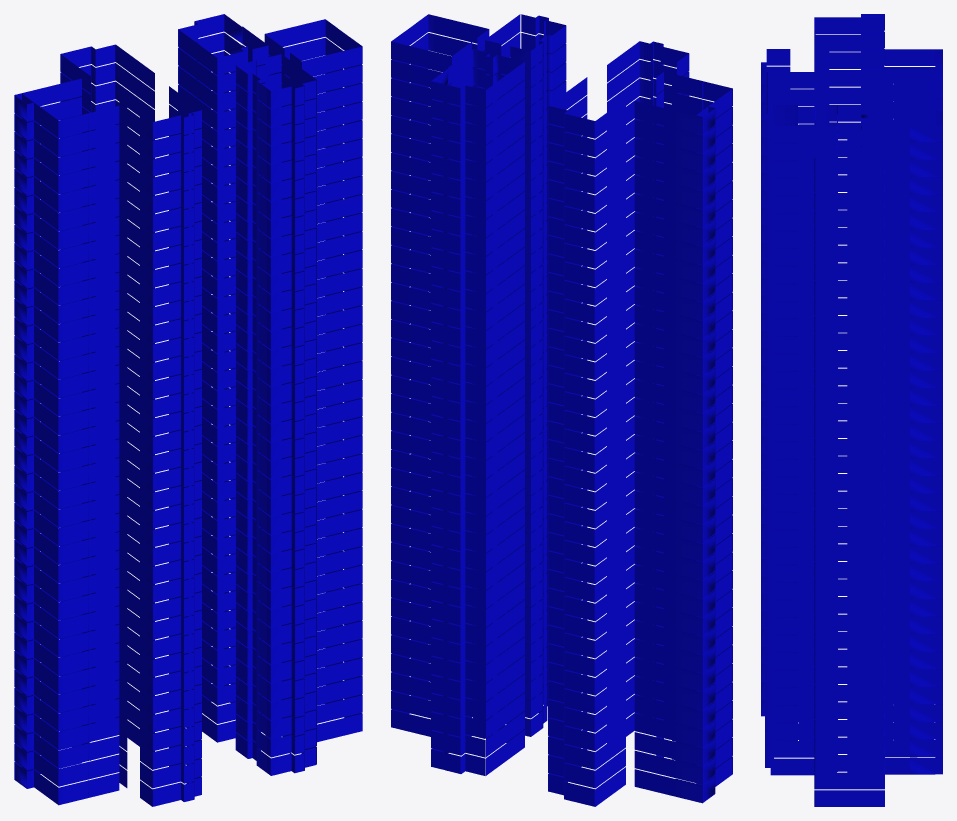
File: Tower-Planes.glb
3 renders of one model, left to right at view 1: azimuth 30°, elevation 25°; view 2: azimuth 150°, elevation 25°; view 3: azimuth 270°, elevation 25°, orthographic. The views are drawn at different scales.
Parts seen in each view (by area): view 1: no part large enough to name; view 2: no part large enough to name; view 3: Tower_A_36_3606_Architecture_Walls_Box3816, Tower_A_00_004_Architecture_Walls_Box292, Tower_A_02_204_Architecture_Walls_Box492, Tower_A_07_704_Architecture_Walls_Box992, Tower_A_09_904_Architecture_Walls_Box1192, Tower_A_14_1404_Architecture_Walls_Box1692, Tower_A_16_1604_Architecture_Walls_Box1892, Tower_A_18_1804_Architecture_Walls_Box2092, Tower_A_21_2104_Architecture_Walls_Box2392, Tower_A_23_2304_Architecture_Walls_Box2592, Tower_A_25_2504_Architecture_Walls_Box2792, Tower_A_28_2804_Architecture_Walls_Box3092 (+205 smaller).
Part boxes in pixels (left/top/right/bottom): Tower_A_36_3606_Architecture_Walls_Box3816: left=847, top=129, right=884, bottom=146; Tower_A_00_004_Architecture_Walls_Box292: left=910, top=757, right=942, bottom=774; Tower_A_02_204_Architecture_Walls_Box492: left=910, top=722, right=942, bottom=739; Tower_A_07_704_Architecture_Walls_Box992: left=910, top=634, right=942, bottom=651; Tower_A_09_904_Architecture_Walls_Box1192: left=910, top=599, right=942, bottom=616; Tower_A_14_1404_Architecture_Walls_Box1692: left=910, top=511, right=942, bottom=528; Tower_A_16_1604_Architecture_Walls_Box1892: left=910, top=476, right=942, bottom=493; Tower_A_18_1804_Architecture_Walls_Box2092: left=910, top=441, right=942, bottom=458; Tower_A_21_2104_Architecture_Walls_Box2392: left=910, top=388, right=942, bottom=405; Tower_A_23_2304_Architecture_Walls_Box2592: left=910, top=353, right=942, bottom=370; Tower_A_25_2504_Architecture_Walls_Box2792: left=910, top=318, right=942, bottom=335; Tower_A_28_2804_Architecture_Walls_Box3092: left=910, top=265, right=942, bottom=282.
Bounding box in the file's own units: 2074 × 4364 × 1109.
